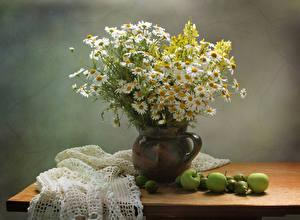chamomile: (180, 60, 199, 77), (139, 20, 161, 34), (172, 90, 194, 104), (205, 68, 223, 83), (188, 98, 204, 114), (201, 105, 215, 119), (146, 93, 165, 103), (118, 84, 137, 94), (79, 83, 92, 97), (192, 83, 207, 95), (121, 49, 142, 57), (88, 85, 103, 96), (228, 60, 238, 76), (135, 103, 149, 114), (85, 67, 99, 78), (92, 74, 107, 84), (230, 80, 242, 92), (122, 59, 136, 69), (67, 71, 84, 79), (142, 51, 154, 62), (198, 55, 210, 65), (123, 23, 138, 31), (148, 72, 160, 82), (210, 50, 220, 61), (134, 66, 145, 76), (134, 91, 145, 101), (152, 105, 161, 113), (85, 35, 95, 42), (225, 92, 231, 102), (210, 99, 217, 105)
